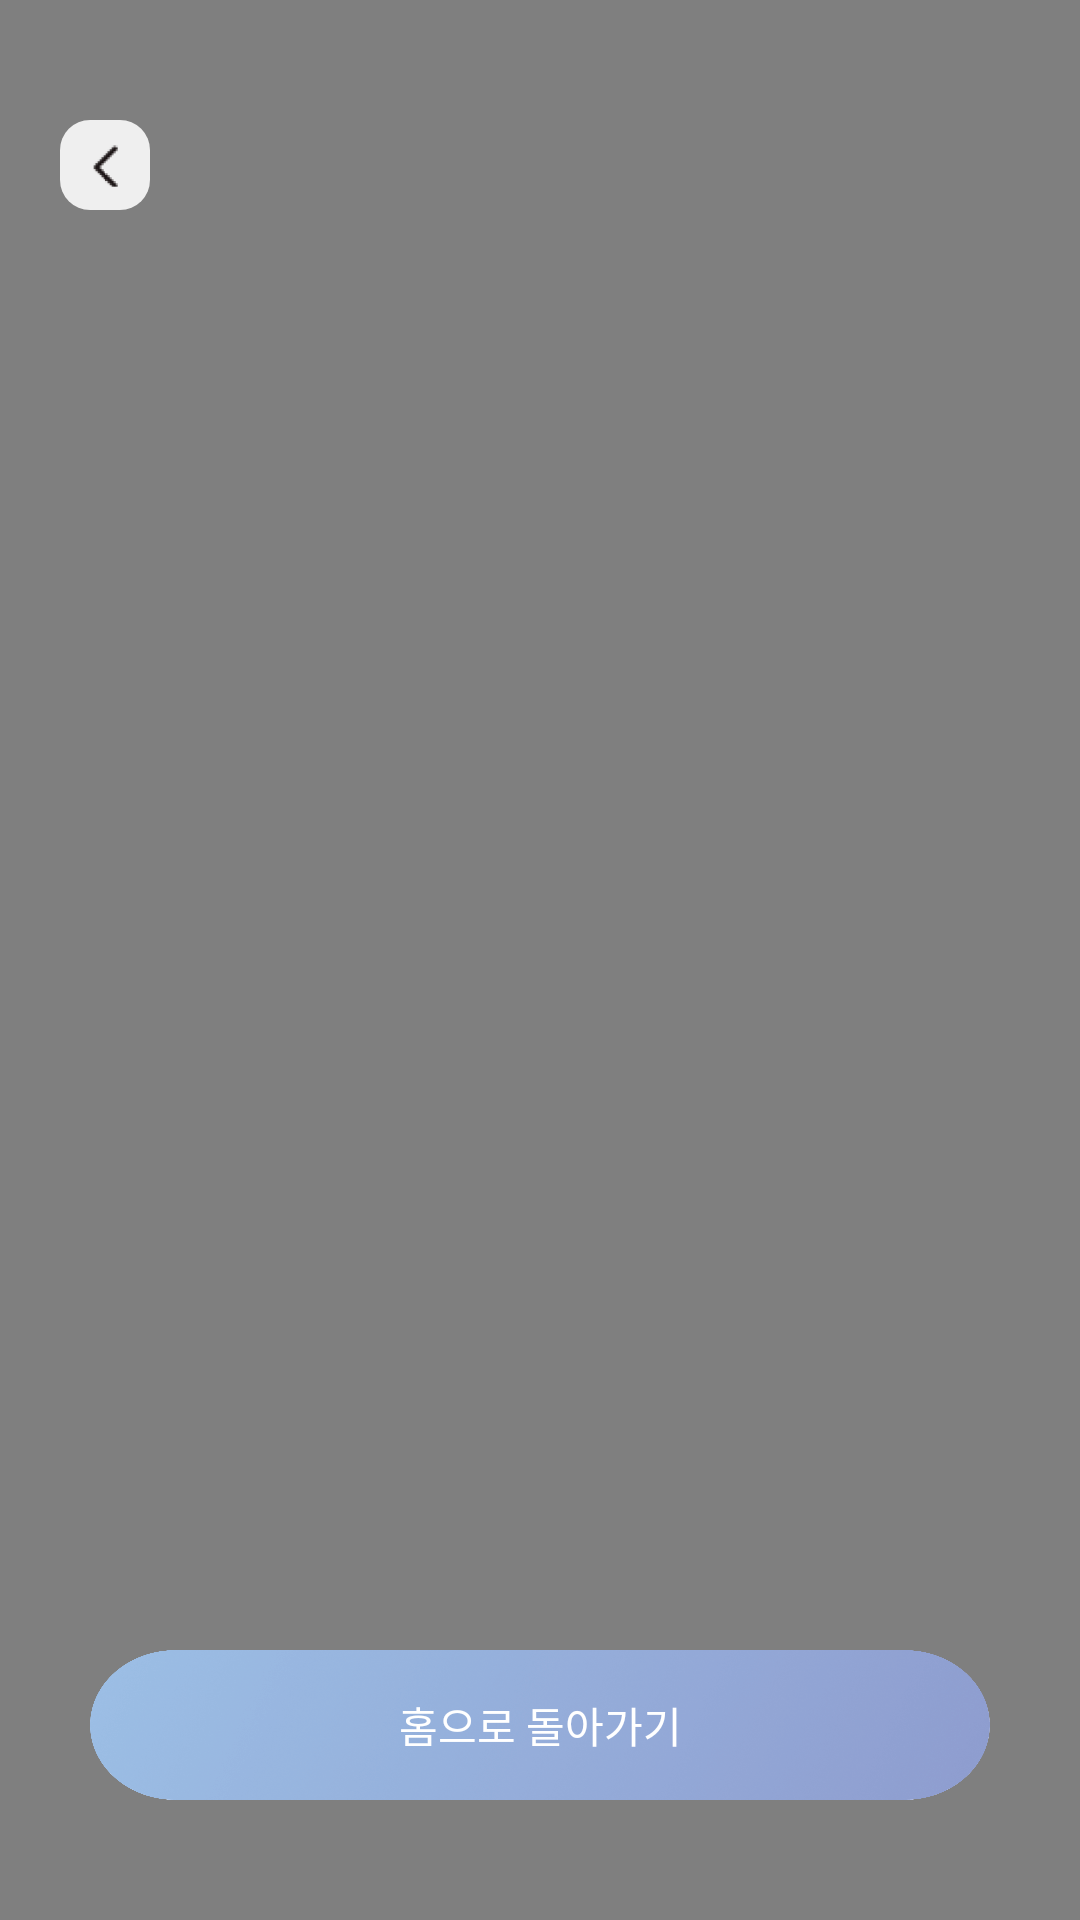

Where to tap for icons on this 1080px x 1920px app screen, as [x,y]:
back: [105,165]
